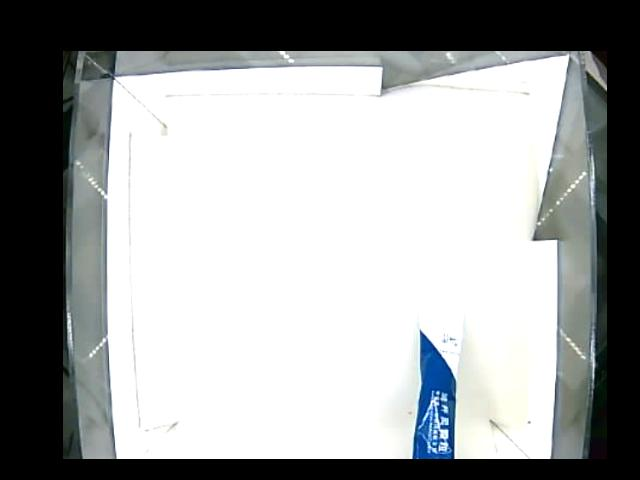Medicine: (412, 307, 464, 457)
